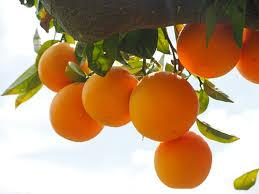orange: (171, 19, 256, 82), (131, 65, 193, 142), (47, 85, 114, 149), (38, 47, 98, 97), (82, 66, 131, 124), (150, 140, 212, 185)
